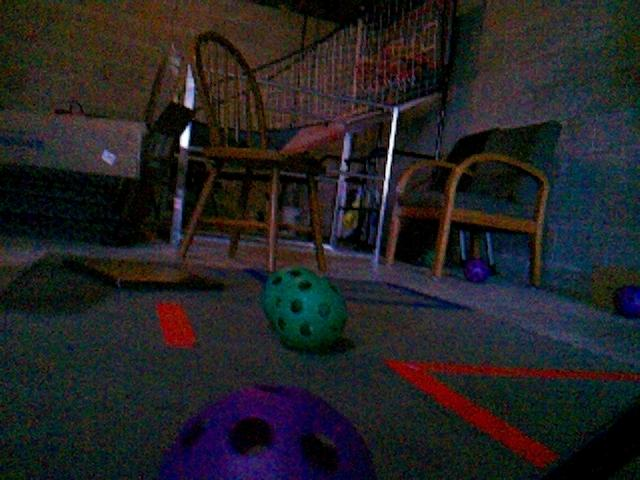Green: (271, 277, 349, 351), (264, 266, 319, 324), (419, 248, 438, 269)
Purple: (157, 382, 375, 480), (612, 285, 640, 319), (463, 257, 492, 283)
